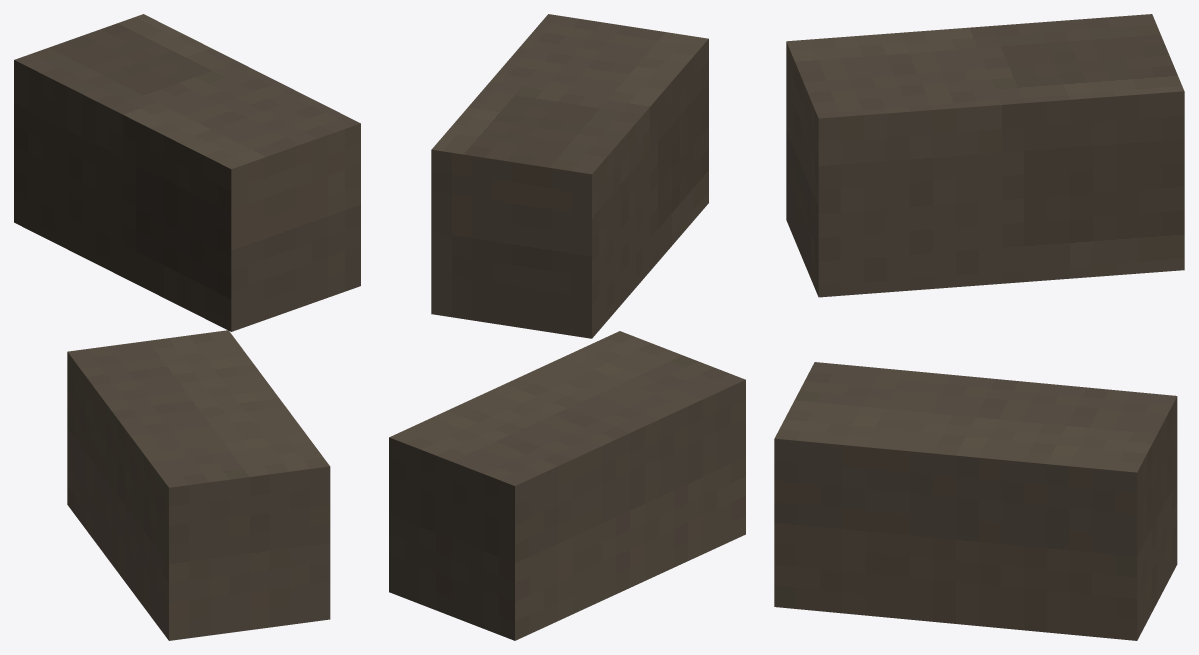
The model's file is sandbags_none_right.obj.
3 renders of one model, left to right at view 1: azimuth 30°, elevation 25°; view 2: azimuth 150°, elevation 25°; view 3: azimuth 270°, elevation 25°, orthographic. The views are drawn at different scales.
Parts seen in each view (by area): view 1: sandbag; view 2: sandbag; view 3: sandbag.
Boxes of the visible parts, x1,y1,x2,y2 form: sandbag: (14, 14, 360, 640); sandbag: (389, 14, 745, 640); sandbag: (774, 14, 1184, 640).
Bounding box in the file's own units: 0.3546 × 0.7656 × 0.5518.
